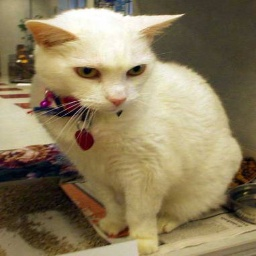cat: (19, 4, 240, 256)
